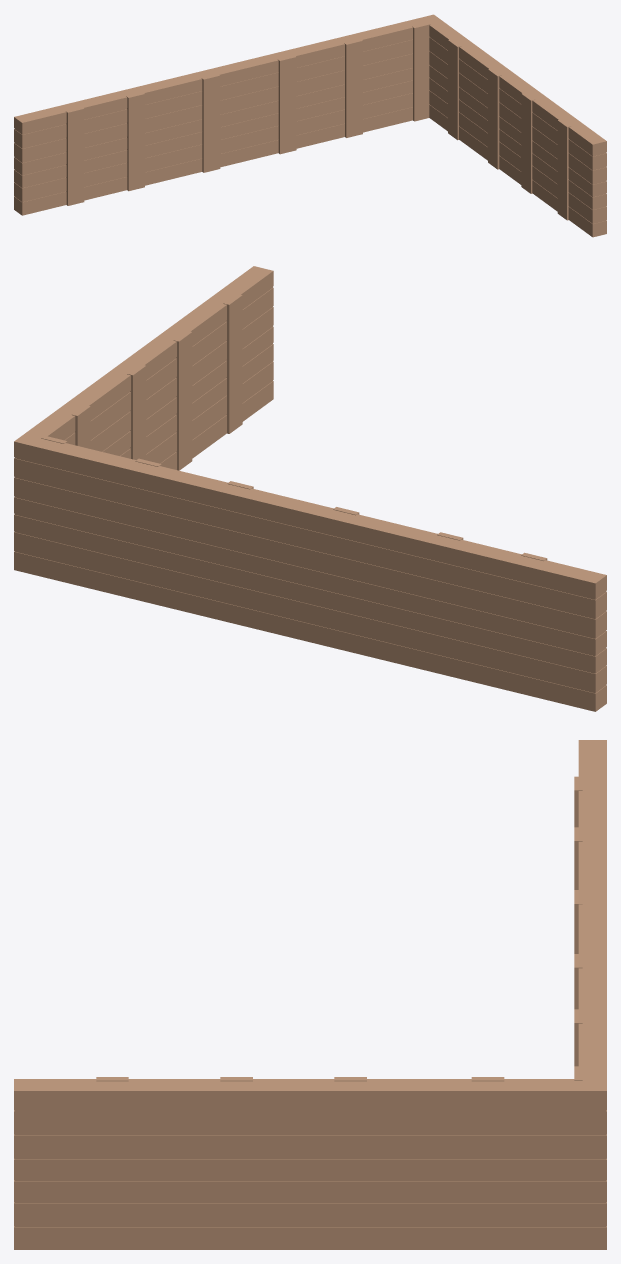
Rendered from WallsV2.FBX.
The picture shows the model from 3 angles, top to bottom: view 1: azimuth 30°, elevation 25°; view 2: azimuth 150°, elevation 25°; view 3: azimuth 270°, elevation 25°; orthographic projection. The views are drawn at different scales.
Parts seen in each view (by area): view 1: Box082; view 2: Box082; view 3: Box082.
Boxes of the visible parts, box(x1,y1,x2,y2) form: Box082: box(14, 14, 606, 237); Box082: box(14, 266, 606, 711); Box082: box(14, 740, 606, 1249).
Bounding box in the file's own units: 8305 × 1764 × 5931.
